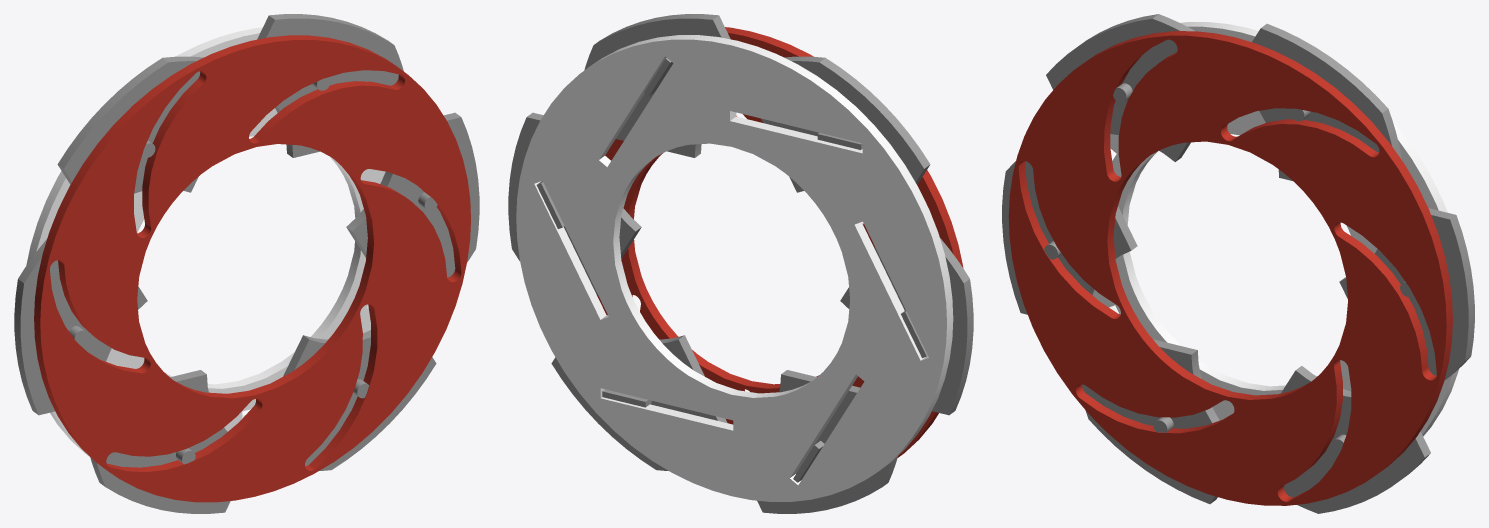
Rendered from Iris_-_Full.fbx.
3 views of the same model, side by side, from view 1: azimuth 30°, elevation 25°; view 2: azimuth 150°, elevation 25°; view 3: azimuth 330°, elevation 25° (orthographic).
Parts seen in each view (by area): view 1: Body1 (×8); view 2: Body1 (×8); view 3: Body1 (×8).
Part boxes in pixels (x1,y1,x2,y2): Body1 (×8): [14, 14, 479, 513]; Body1 (×8): [508, 14, 973, 513]; Body1 (×8): [1002, 14, 1474, 513].
Size of the model in its own units: 213 by 213 by 15.26.
